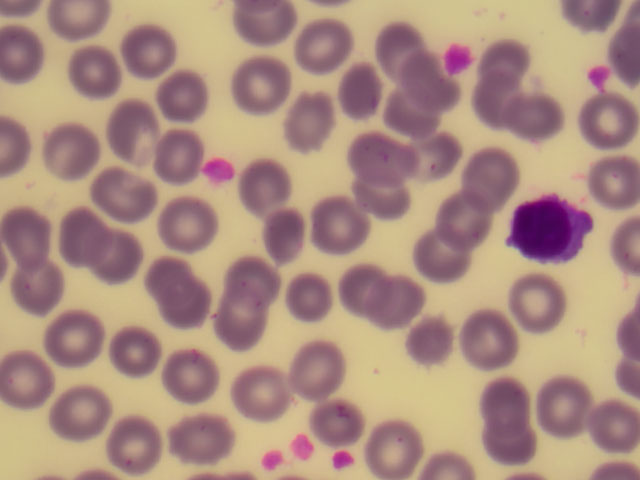Platelets: (445, 39, 472, 76), (590, 58, 614, 95), (202, 157, 235, 182), (289, 431, 317, 460), (261, 450, 295, 472), (329, 450, 362, 472)
RBC: (64, 37, 124, 102), (121, 19, 181, 84), (146, 59, 206, 124), (104, 103, 164, 168), (143, 123, 203, 188), (93, 158, 153, 223), (42, 120, 102, 185), (54, 207, 114, 272), (84, 223, 144, 288), (15, 262, 75, 327), (2, 202, 62, 267), (139, 240, 199, 305), (165, 273, 225, 338), (157, 196, 217, 261), (108, 316, 168, 381), (52, 307, 112, 372), (5, 346, 65, 411), (48, 375, 108, 440), (109, 412, 169, 477), (171, 404, 231, 469), (163, 341, 223, 406), (236, 360, 296, 425), (285, 339, 345, 404), (210, 293, 270, 358), (220, 247, 280, 312), (258, 199, 318, 264), (241, 153, 301, 218), (282, 82, 342, 147), (241, 53, 301, 118), (289, 12, 349, 77), (331, 60, 391, 125), (368, 14, 428, 79), (403, 48, 463, 113), (389, 85, 449, 150), (407, 118, 467, 183), (364, 120, 424, 185), (360, 175, 420, 240), (310, 192, 370, 257), (339, 259, 399, 324), (293, 264, 353, 329), (383, 279, 443, 344), (414, 225, 474, 290), (439, 187, 499, 252), (467, 137, 527, 202), (514, 90, 574, 155), (473, 64, 533, 129), (478, 29, 538, 94), (576, 88, 636, 153), (580, 149, 640, 214), (506, 270, 566, 335), (463, 310, 523, 375), (408, 314, 468, 379), (470, 359, 530, 424), (483, 411, 543, 476), (362, 415, 422, 480), (316, 380, 376, 445), (537, 376, 597, 441), (586, 391, 640, 452), (235, 1, 289, 39)
WBC: (506, 190, 593, 271)
